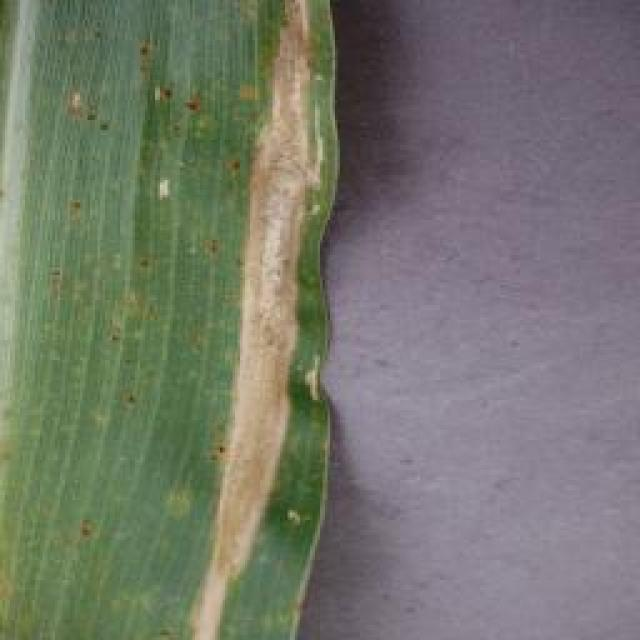Corn___Northern_Leaf_Blight: (0, 0, 375, 638)
